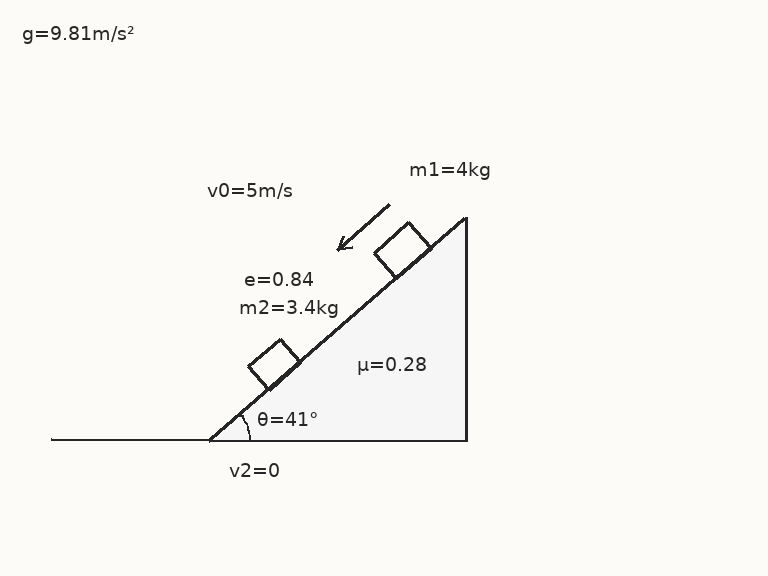block: (372, 220, 433, 280), (246, 337, 302, 392)
ramp: (208, 216, 468, 442)
